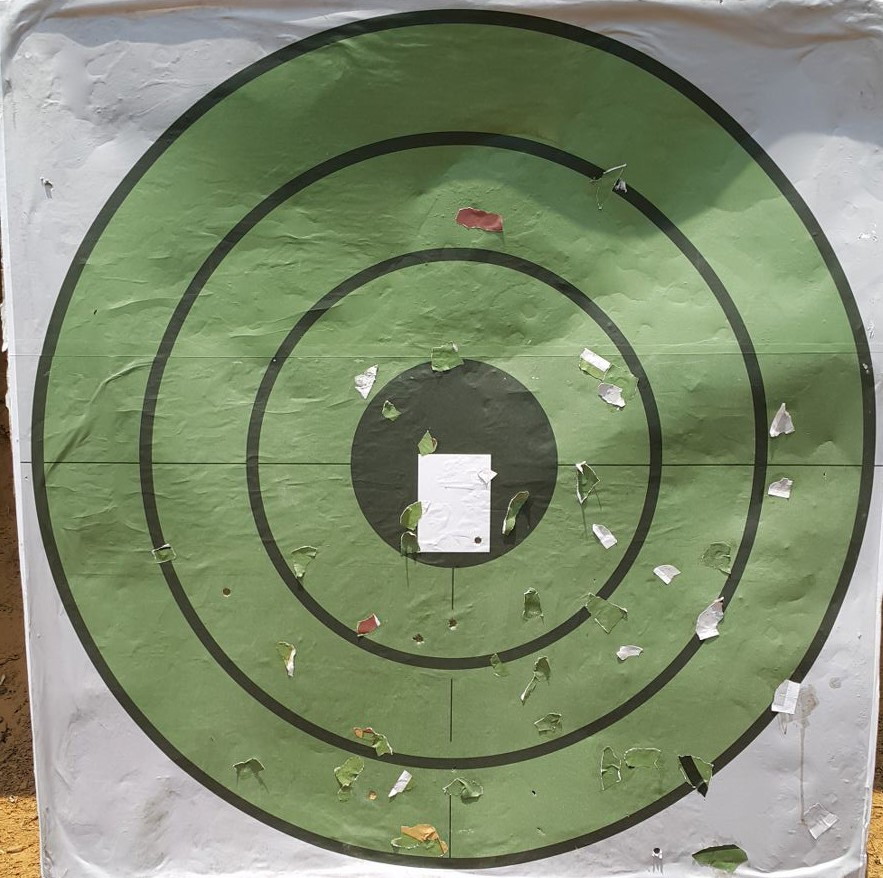Bullet: (414, 635, 423, 642), (223, 589, 230, 596), (450, 619, 456, 627), (475, 537, 481, 544)
